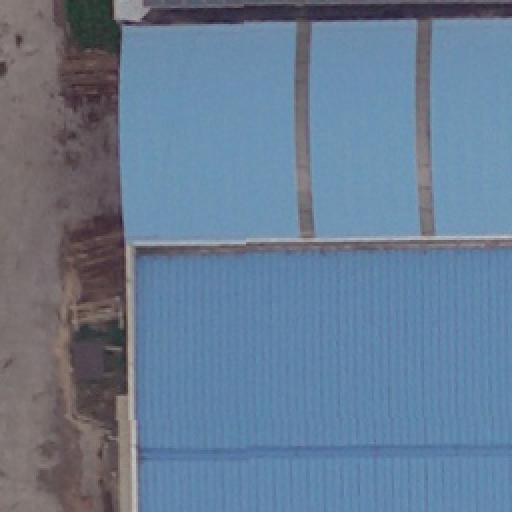solar-panel: (140, 0, 512, 8)
